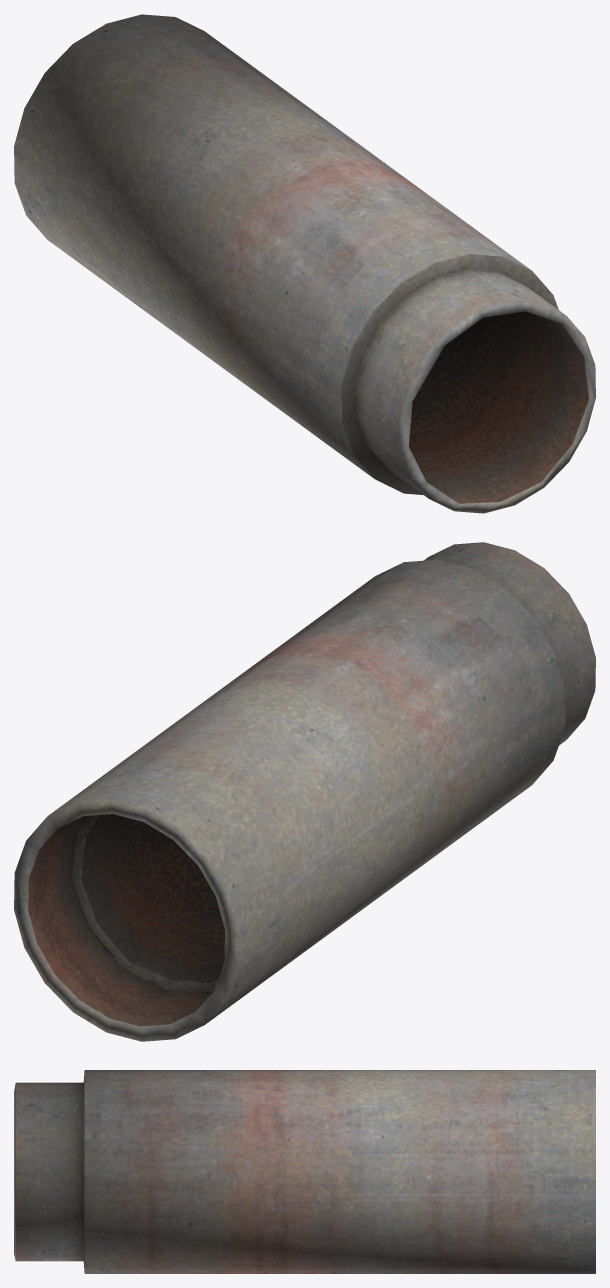
The model's file is Concrete_pipefbx.glb.
3 renders of one model, top to bottom at view 1: azimuth 30°, elevation 25°; view 2: azimuth 150°, elevation 25°; view 3: azimuth 270°, elevation 25°, orthographic. The views are drawn at different scales.
Parts seen in each view (by area): view 1: Construction.012; view 2: Construction.012; view 3: Construction.012.
Part boxes in pixels (box(x1,y1,x2,y2)): Construction.012: box(14, 14, 595, 513); Construction.012: box(14, 542, 595, 1041); Construction.012: box(14, 1070, 595, 1273).
Bounding box in the file's own units: 2.01 × 2.01 × 5.8.
1 material, 1 textured.
